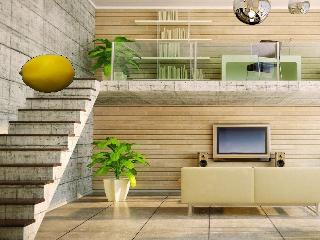lemon: (16, 50, 80, 97)
